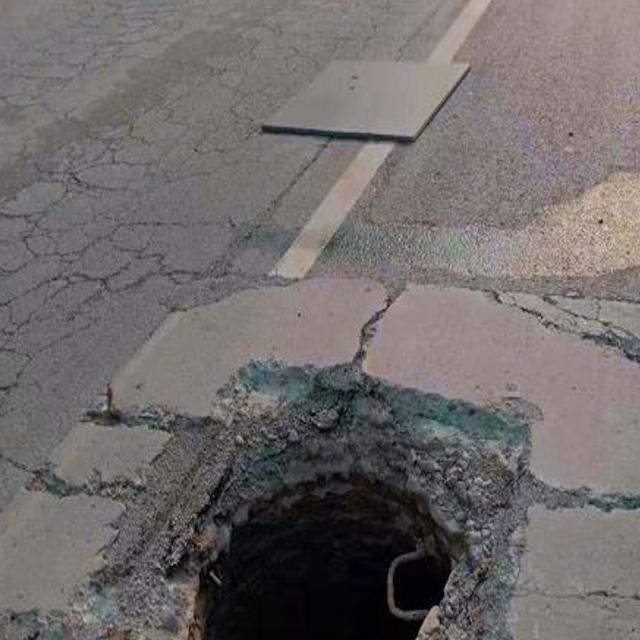lose: (78, 328, 551, 640)
